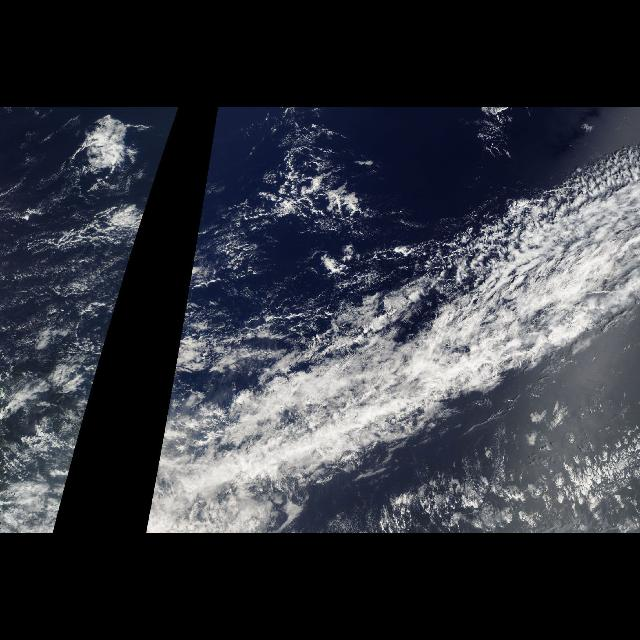Sugar: (2, 200, 148, 340), (178, 200, 242, 340)
